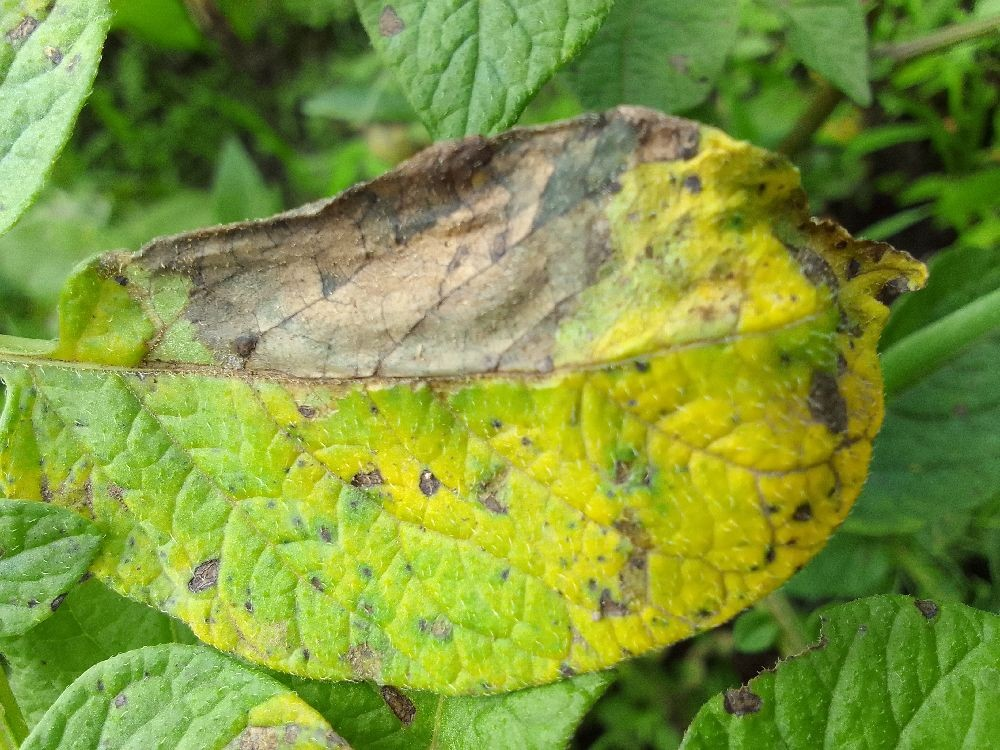late_blight: (569, 483, 781, 750), (128, 0, 358, 180), (662, 235, 813, 337)
